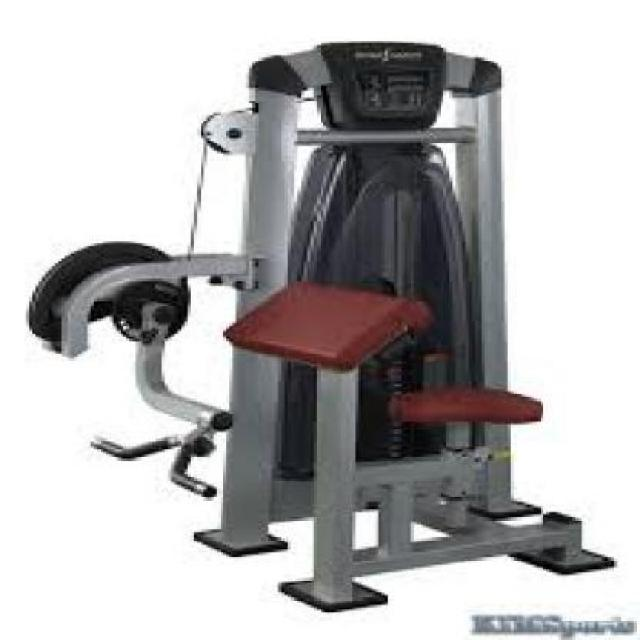arm curl machine: (27, 40, 618, 614)
